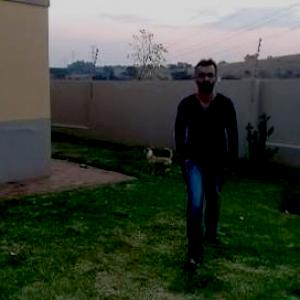follow: (176, 62, 230, 232)
